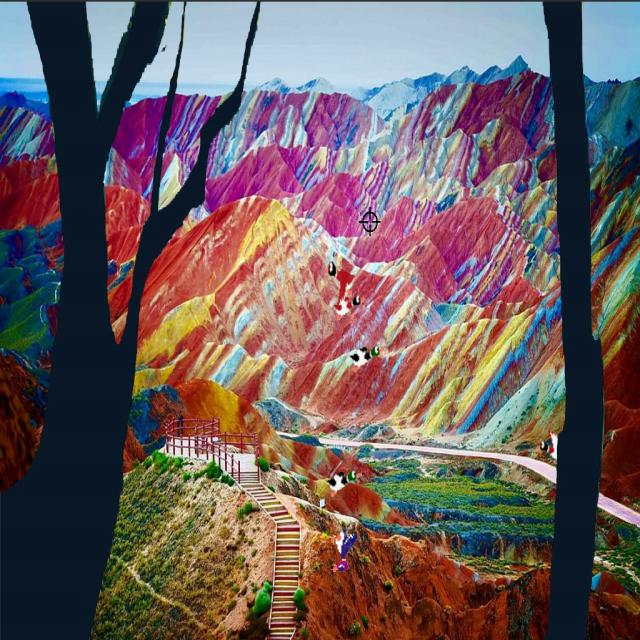duck: (321, 256, 362, 296), (322, 467, 368, 500), (349, 339, 384, 372), (331, 294, 368, 324), (536, 428, 562, 469)
falling_duck: (330, 523, 358, 577)
